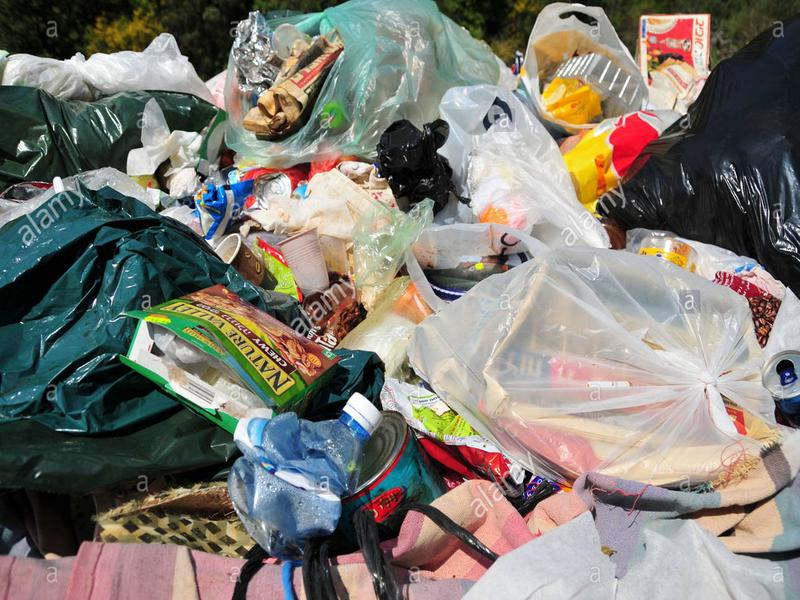cardboard: (628, 9, 716, 88)
cup: (277, 225, 337, 301)
plastic: (405, 243, 781, 494), (3, 182, 323, 444), (280, 1, 503, 164), (590, 117, 798, 286), (436, 82, 623, 256), (1, 81, 226, 185), (1, 28, 223, 101), (362, 114, 469, 214), (343, 199, 437, 306)
